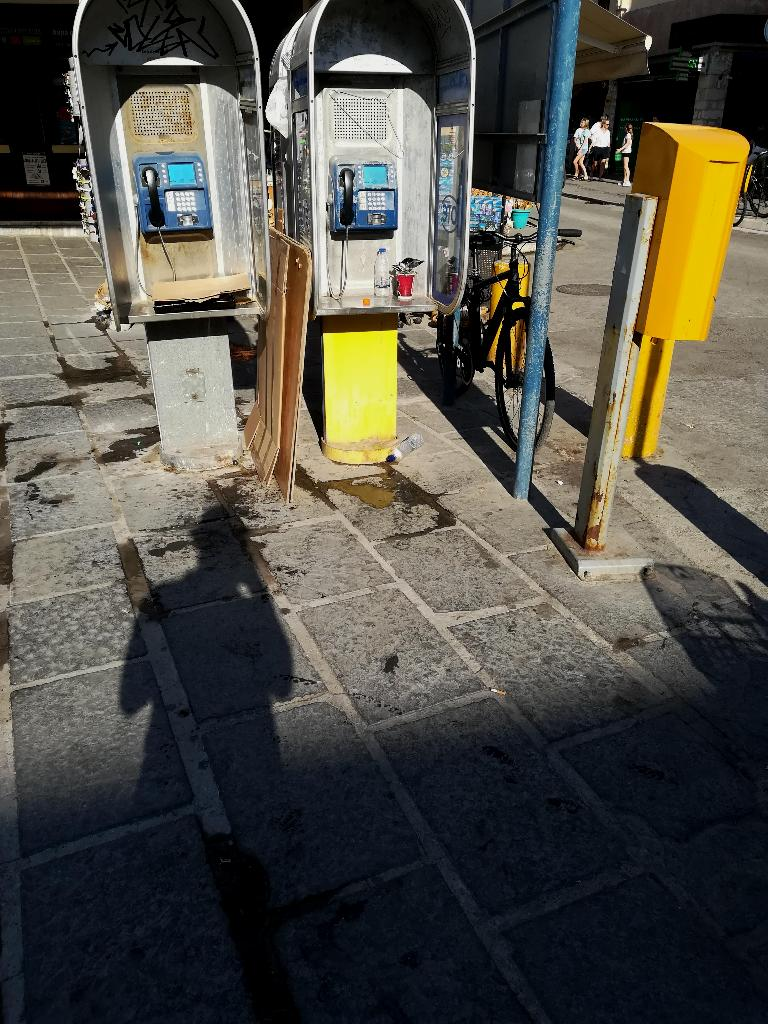garbage: (378, 426, 432, 472), (368, 240, 400, 308), (388, 433, 424, 463), (374, 248, 390, 297)
